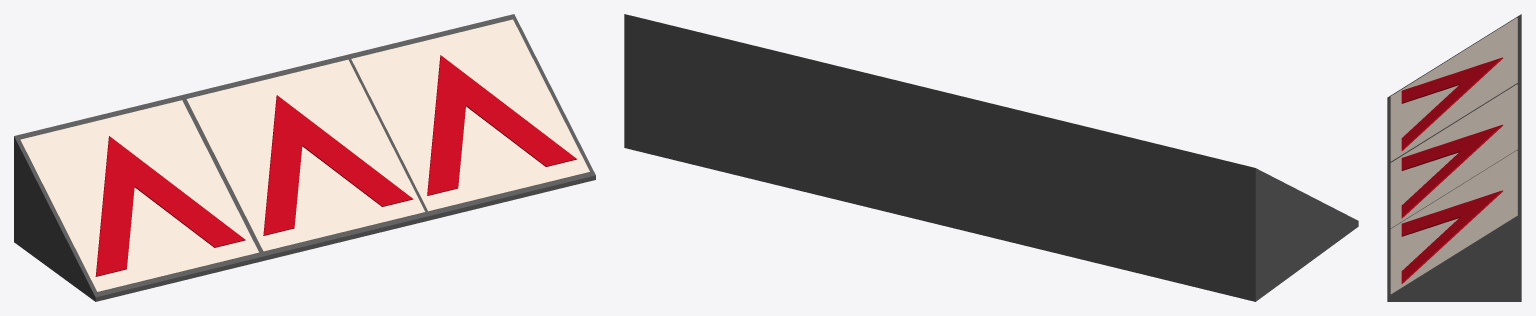
3 views of the same model, side by side, from view 1: azimuth 30°, elevation 25°; view 2: azimuth 150°, elevation 25°; view 3: azimuth 270°, elevation 25° (orthographic). The views are drawn at different scales.
Visible parts, largest first — view 1: Cube_1, Cube_2, Cube_3, Cube, Extrude_1, Extrude, Extrude_2; view 2: Cube; view 3: Cube, Cube_3, Cube_2, Cube_1, Extrude, Extrude_1, Extrude_2.
Part boxes in pixels (left/top/right/bottom): Cube_1: left=351, top=19, right=589, bottom=211; Cube_2: left=186, top=59, right=425, bottom=251; Cube_3: left=20, top=100, right=258, bottom=292; Cube: left=14, top=14, right=595, bottom=301; Extrude_1: left=263, top=95, right=413, bottom=235; Extrude: left=95, top=136, right=245, bottom=276; Extrude_2: left=427, top=55, right=576, bottom=195; Cube: left=624, top=14, right=1358, bottom=301; Cube: left=1387, top=14, right=1521, bottom=301; Cube_3: left=1390, top=18, right=1517, bottom=161; Cube_2: left=1390, top=84, right=1517, bottom=227; Cube_1: left=1390, top=150, right=1517, bottom=293; Extrude: left=1401, top=57, right=1503, bottom=150; Extrude_1: left=1401, top=124, right=1503, bottom=218; Extrude_2: left=1401, top=190, right=1502, bottom=283.
Size of the model in its own units: 24.6 by 4.99 by 6.95.
